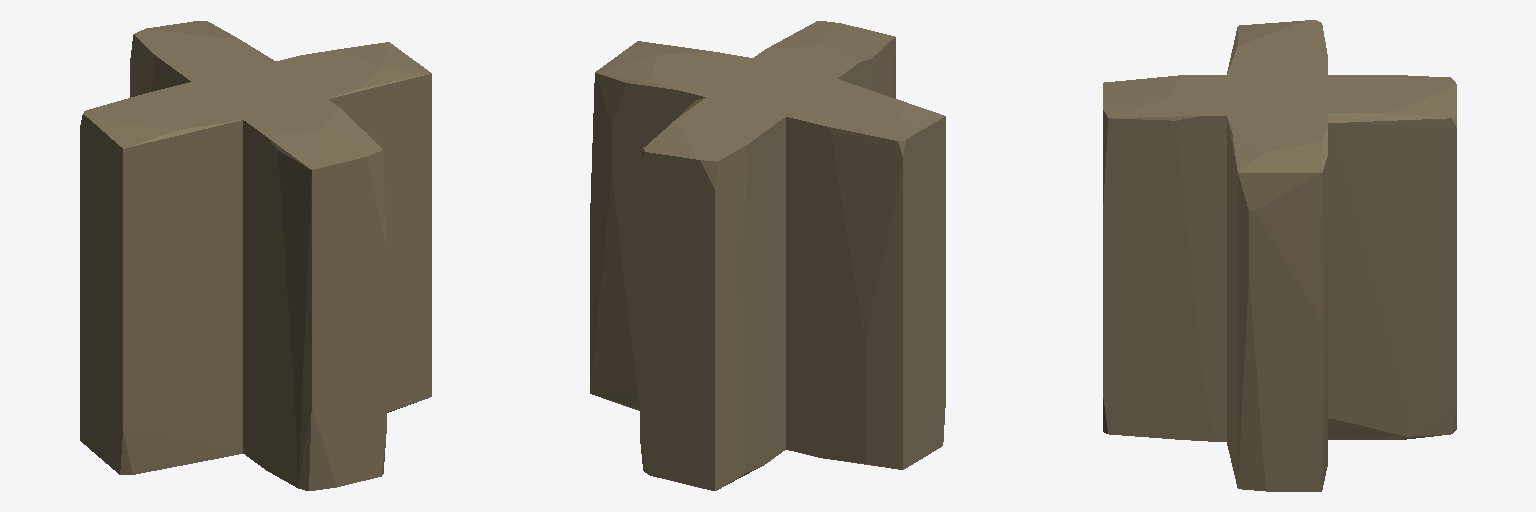
The robot description file, URDF, robot "cross":
<?xml version="1.0"?>
<robot name="cross">
  <link name="base_link">
    <visual>
      <origin xyz="0 0 0" rpy="0 0 0" />
      <geometry>
        <mesh filename="cross_decimated.obj" />      
      </geometry>
      <material name="tan">
        <color rgba="0.55 0.5 0.4 1" />
      </material>
    </visual>
    <collision>
      <origin xyz="0 0 0" rpy="0 0 0" />
      <geometry>
        <mesh filename="cross_decimated.obj" />
      </geometry>
    </collision>
  </link>
</robot>

--- What the picture shows (computed from the rendered views, not written in the file) ---
Views: 3 orthographic renders of the robot side by side, from view 1: azimuth 30°, elevation 25°; view 2: azimuth 150°, elevation 25°; view 3: azimuth 270°, elevation 25°.
Model cross with 1 links and 0 joints (none), rooted at base_link, posed every joint at zero.
Links seen in each view (by area): view 1: base_link; view 2: base_link; view 3: base_link.
Link boxes in pixels (x1,y1,x2,y2): base_link: (80, 21, 431, 490); base_link: (590, 21, 945, 490); base_link: (1103, 20, 1456, 491).
Size in the robot's own frame: 25.22 by 25.22 by 25.62 metres.
Meshes: 1 distinct files referenced, 1 mesh visuals loaded (1 OBJ).
